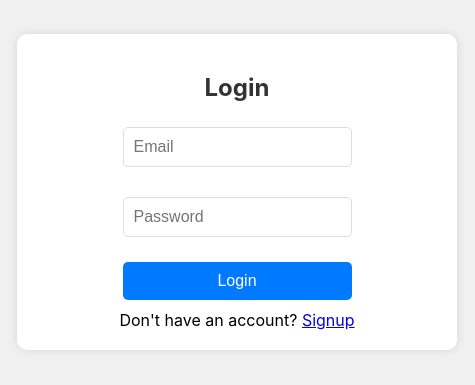
Test: displays_password_length_error_when_password_is_too_short
Type "12345" into the password field with placeholder "Password" at coordinates (237, 218), box 122,198 -> 352,238
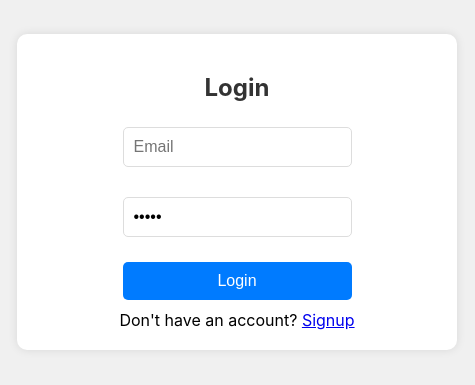
Click the button "Login" at coordinates (237, 282), box 122,262 -> 352,300
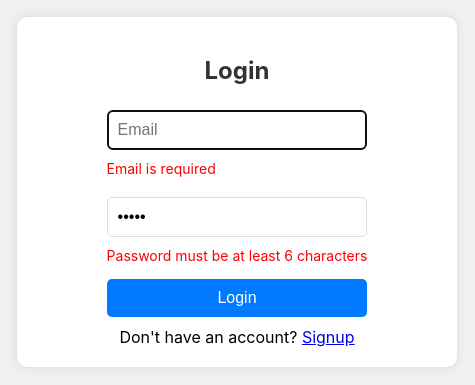
Expected: the text "Password must be at least 6 characters" is shown, 107,248 -> 367,264
